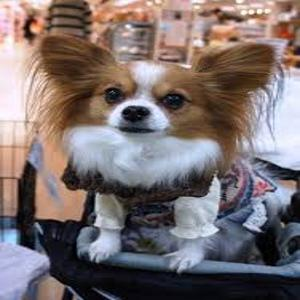yell: (39, 34, 282, 270)
